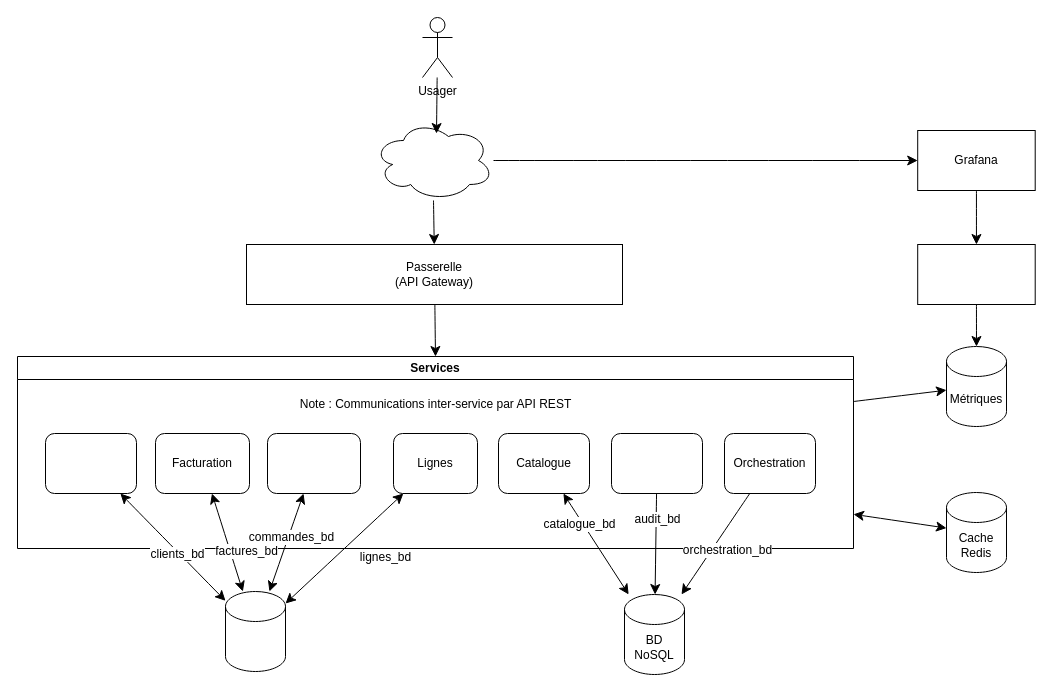
The diagram is 1053 pixels wide and 692 high, and some of its shapes have lost their labels. The shapes that lost their labels are listed below. From the top down, each one's centre as x and y in pixels, then its label:
the point at 433,160: Internet
the point at 976,274: Prometheus
the point at 90,463: Clients
the point at 313,463: Commandes
the point at 656,463: Audit
the point at 255,631: BD SQL
